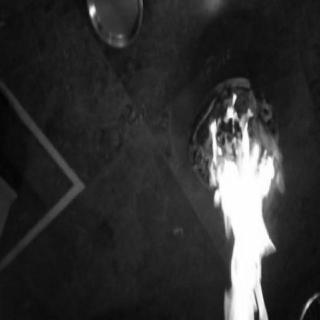Fire: (192, 98, 292, 320)
